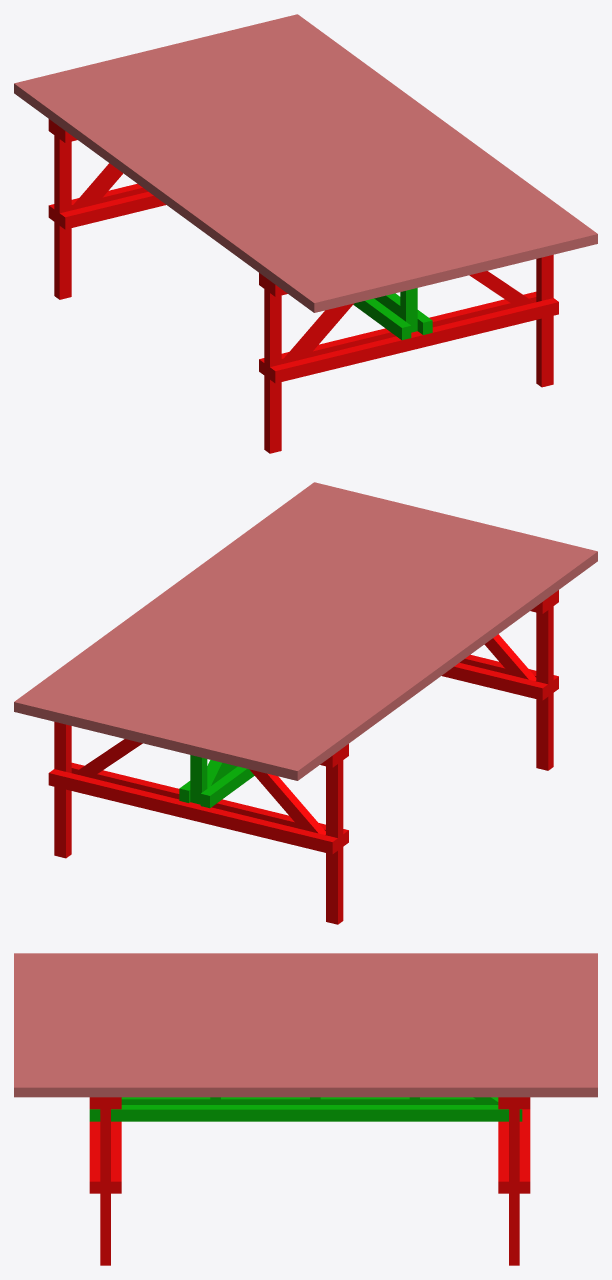
Rendered from result.glb.
3 renders of one model, top to bottom at view 1: azimuth 30°, elevation 25°; view 2: azimuth 150°, elevation 25°; view 3: azimuth 270°, elevation 25°, orthographic. The views are drawn at different scales.
Visible parts, largest first — view 1: a74b1475-758e-4fa5-81c7-217403e52778__Box, 9c470531-de45-40e9-b9dc-ec15afc31c10__sideH, bdafe23f-b5af-42a4-bdd3-72b04ef9705e__undefined, 5fb27e45-adbc-413a-9d25-6714d83104f3__undefined, 78b6880d-9973-4876-8547-ab703dbede72__undefined, 5fcc4939-b405-4c62-b0a3-15f8eff14d68__undefined, 8a71e6e3-b822-4530-ab7d-d89d03b10b53__undefined, 78ef0fb8-f9c1-4dda-8346-ba74ba8d81eb__undefined, 3135705e-c58c-4bf0-912c-2f6c51276c55__undefined, 5c5145a2-85a2-442b-bc23-ef8d2be26cd4__undefined, 68233cde-6e0e-4f16-aae3-989fdea9a5d5__undefined, abac10c4-f33e-4610-8712-910bae18a1d0__undefined (+25 smaller); view 2: a74b1475-758e-4fa5-81c7-217403e52778__Box, ebe2f45f-cc93-49bc-ab06-8a770ace3469__undefined, bdafe23f-b5af-42a4-bdd3-72b04ef9705e__undefined, 5fb27e45-adbc-413a-9d25-6714d83104f3__undefined, 78b6880d-9973-4876-8547-ab703dbede72__undefined, 8a71e6e3-b822-4530-ab7d-d89d03b10b53__undefined, 78ef0fb8-f9c1-4dda-8346-ba74ba8d81eb__undefined, 3135705e-c58c-4bf0-912c-2f6c51276c55__undefined, 5fcc4939-b405-4c62-b0a3-15f8eff14d68__undefined, 5c5145a2-85a2-442b-bc23-ef8d2be26cd4__undefined, 68233cde-6e0e-4f16-aae3-989fdea9a5d5__undefined, abac10c4-f33e-4610-8712-910bae18a1d0__undefined (+24 smaller); view 3: ba48d38f-eecd-4010-bcbd-6860391e963d__undefined, ad646750-ef83-4927-a172-76d9f7b5cb26__strutH, 275b26bd-438e-4cdd-8914-7cc330947727__undefined, 78ef0fb8-f9c1-4dda-8346-ba74ba8d81eb__undefined, a07b544d-d707-4cbd-8a26-ec0686d3f32b__undefined, 5fb27e45-adbc-413a-9d25-6714d83104f3__undefined, 5fcc4939-b405-4c62-b0a3-15f8eff14d68__undefined, bb7a9b16-9a6e-43da-9d30-b0c09062201f__undefined, ba43e1fb-9c56-489a-a895-a9c21fab8ea5__undefined, a74b1475-758e-4fa5-81c7-217403e52778__Box, 49a14a9b-8316-41c2-bb7c-b50a378c679f__undefined, 8a71e6e3-b822-4530-ab7d-d89d03b10b53__undefined (+20 smaller).
Part boxes in pixels (x1=…): a74b1475-758e-4fa5-81c7-217403e52778__Box: x1=14, y1=80, x2=325, y2=312; 9c470531-de45-40e9-b9dc-ec15afc31c10__sideH: x1=270, y1=298, x2=558, y2=383; bdafe23f-b5af-42a4-bdd3-72b04ef9705e__undefined: x1=73, y1=66, x2=385, y2=298; 5fb27e45-adbc-413a-9d25-6714d83104f3__undefined: x1=120, y1=54, x2=432, y2=286; 78b6880d-9973-4876-8547-ab703dbede72__undefined: x1=203, y1=34, x2=515, y2=266; 5fcc4939-b405-4c62-b0a3-15f8eff14d68__undefined: x1=180, y1=40, x2=491, y2=272; 8a71e6e3-b822-4530-ab7d-d89d03b10b53__undefined: x1=50, y1=72, x2=361, y2=304; 78ef0fb8-f9c1-4dda-8346-ba74ba8d81eb__undefined: x1=61, y1=69, x2=373, y2=301; 3135705e-c58c-4bf0-912c-2f6c51276c55__undefined: x1=132, y1=51, x2=444, y2=283; 5c5145a2-85a2-442b-bc23-ef8d2be26cd4__undefined: x1=191, y1=37, x2=503, y2=269; 68233cde-6e0e-4f16-aae3-989fdea9a5d5__undefined: x1=251, y1=23, x2=562, y2=255; abac10c4-f33e-4610-8712-910bae18a1d0__undefined: x1=262, y1=20, x2=574, y2=252; a74b1475-758e-4fa5-81c7-217403e52778__Box: x1=286, y1=548, x2=597, y2=780; ebe2f45f-cc93-49bc-ab06-8a770ace3469__undefined: x1=48, y1=769, x2=337, y2=854; bdafe23f-b5af-42a4-bdd3-72b04ef9705e__undefined: x1=226, y1=534, x2=538, y2=766; 5fb27e45-adbc-413a-9d25-6714d83104f3__undefined: x1=179, y1=522, x2=491, y2=754; 78b6880d-9973-4876-8547-ab703dbede72__undefined: x1=96, y1=502, x2=408, y2=734; 8a71e6e3-b822-4530-ab7d-d89d03b10b53__undefined: x1=250, y1=540, x2=561, y2=772; 78ef0fb8-f9c1-4dda-8346-ba74ba8d81eb__undefined: x1=238, y1=537, x2=550, y2=769; 3135705e-c58c-4bf0-912c-2f6c51276c55__undefined: x1=167, y1=519, x2=479, y2=751; 5fcc4939-b405-4c62-b0a3-15f8eff14d68__undefined: x1=120, y1=508, x2=431, y2=740; 5c5145a2-85a2-442b-bc23-ef8d2be26cd4__undefined: x1=108, y1=505, x2=420, y2=737; 68233cde-6e0e-4f16-aae3-989fdea9a5d5__undefined: x1=49, y1=491, x2=360, y2=723; abac10c4-f33e-4610-8712-910bae18a1d0__undefined: x1=37, y1=488, x2=349, y2=720; ba48d38f-eecd-4010-bcbd-6860391e963d__undefined: x1=14, y1=1082, x2=597, y2=1097; ad646750-ef83-4927-a172-76d9f7b5cb26__strutH: x1=89, y1=1105, x2=522, y2=1121; 275b26bd-438e-4cdd-8914-7cc330947727__undefined: x1=14, y1=958, x2=597, y2=964; 78ef0fb8-f9c1-4dda-8346-ba74ba8d81eb__undefined: x1=14, y1=975, x2=597, y2=981; a07b544d-d707-4cbd-8a26-ec0686d3f32b__undefined: x1=14, y1=986, x2=597, y2=992; 5fb27e45-adbc-413a-9d25-6714d83104f3__undefined: x1=14, y1=1003, x2=597, y2=1009; 5fcc4939-b405-4c62-b0a3-15f8eff14d68__undefined: x1=14, y1=1031, x2=597, y2=1037; bb7a9b16-9a6e-43da-9d30-b0c09062201f__undefined: x1=14, y1=1059, x2=597, y2=1065; ba43e1fb-9c56-489a-a895-a9c21fab8ea5__undefined: x1=14, y1=1076, x2=597, y2=1082; a74b1475-758e-4fa5-81c7-217403e52778__Box: x1=14, y1=953, x2=597, y2=958; 49a14a9b-8316-41c2-bb7c-b50a378c679f__undefined: x1=14, y1=964, x2=597, y2=969; 8a71e6e3-b822-4530-ab7d-d89d03b10b53__undefined: x1=14, y1=970, x2=597, y2=975.
Size of the model in its own units: 1200 by 740 by 2200.
